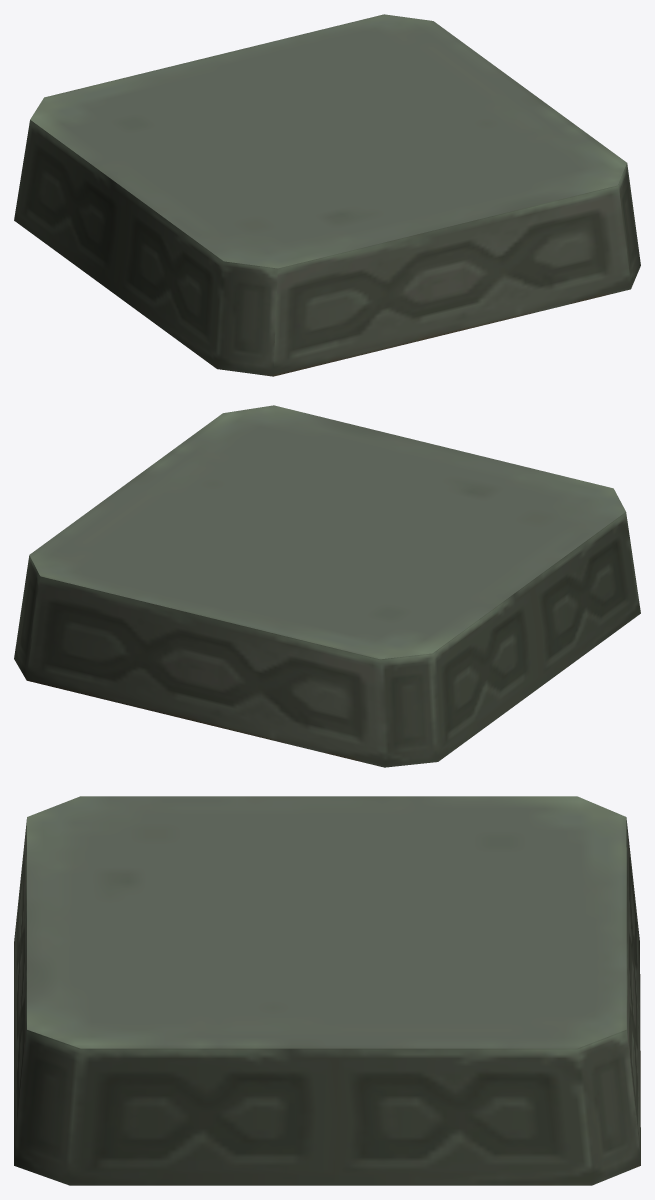
Rendered from yw_shanlin_postbase_002.FBX.
3 renders of one model, top to bottom at view 1: azimuth 30°, elevation 25°; view 2: azimuth 150°, elevation 25°; view 3: azimuth 270°, elevation 25°, orthographic. The views are drawn at different scales.
Visible parts, largest first — view 1: yw_shanlin_postbase_002; view 2: yw_shanlin_postbase_002; view 3: yw_shanlin_postbase_002.
Boxes of the visible parts, x1=… form: yw_shanlin_postbase_002: x1=14, y1=14, x2=640, y2=376; yw_shanlin_postbase_002: x1=14, y1=405, x2=640, y2=767; yw_shanlin_postbase_002: x1=14, y1=796, x2=640, y2=1185.
Size of the model in its own units: 56.35 by 56.27 by 12.99.
